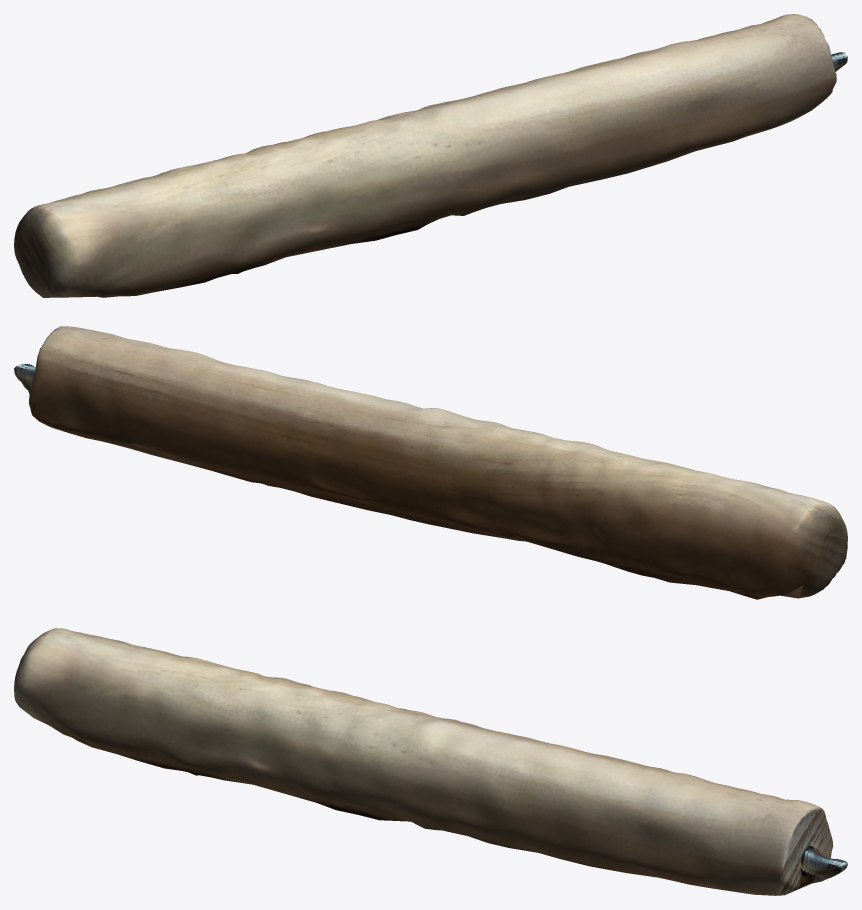
Rendered from sticker.obj.
The picture shows the model from 3 angles, top to bottom: view 1: azimuth 30°, elevation 25°; view 2: azimuth 150°, elevation 25°; view 3: azimuth 330°, elevation 25°; orthographic projection. The views are drawn at different scales.
Visible parts, largest first — view 1: mesh_0; view 2: mesh_0; view 3: mesh_0.
Boxes of the visible parts, x1=… form: mesh_0: x1=14, y1=14, x2=847, y2=297; mesh_0: x1=14, y1=326, x2=847, y2=599; mesh_0: x1=14, y1=628, x2=847, y2=895.
Bounding box in the file's own units: 0.2729 × 0.0311 × 0.0355.
1 material, 1 textured.
